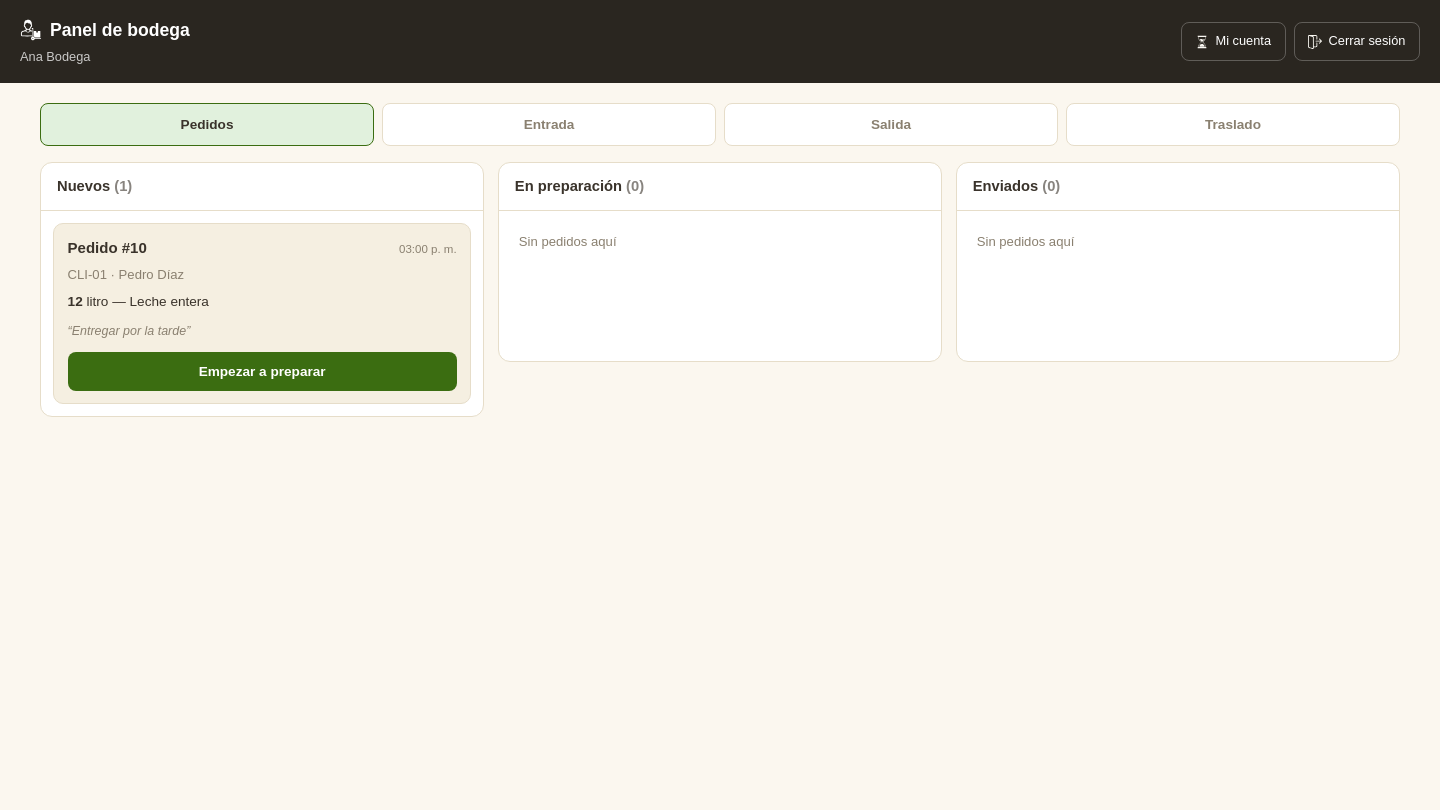
Test: BodegaPage › registers an entrada and shows recent movements
This screenshot has width=1440, height=810.
Click the button "Entrada" at (549, 124), box top-left (382, 103), bottom-right (716, 146)
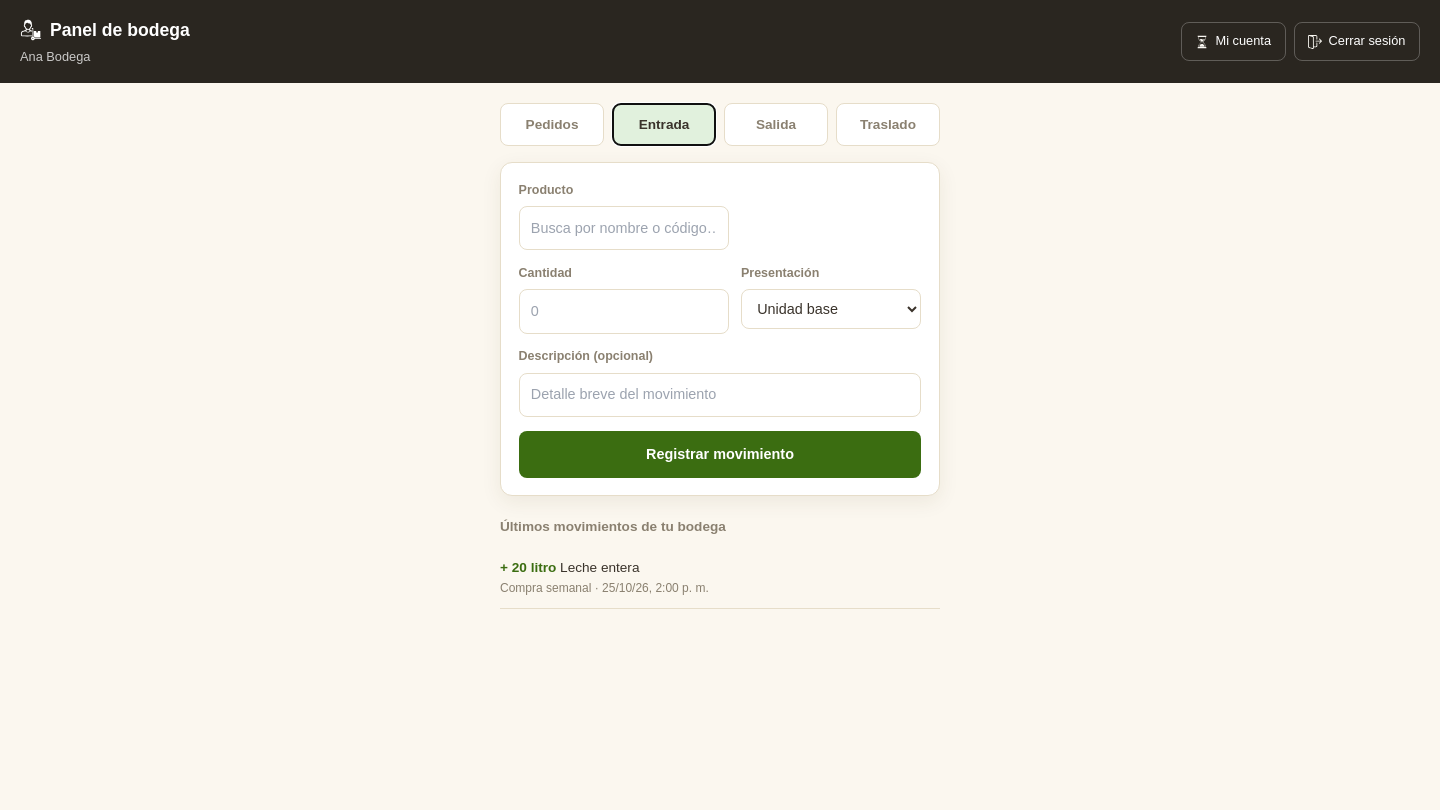
Expected: the text "Últimos movimientos de tu bodega" is shown, top-left (500, 519), bottom-right (726, 534)
Expected: the text "+ 20 litro Leche entera" is shown, top-left (500, 560), bottom-right (640, 575)
Type "Leche" into the field named "Producto" at (624, 228), box top-left (519, 206), bottom-right (729, 250)
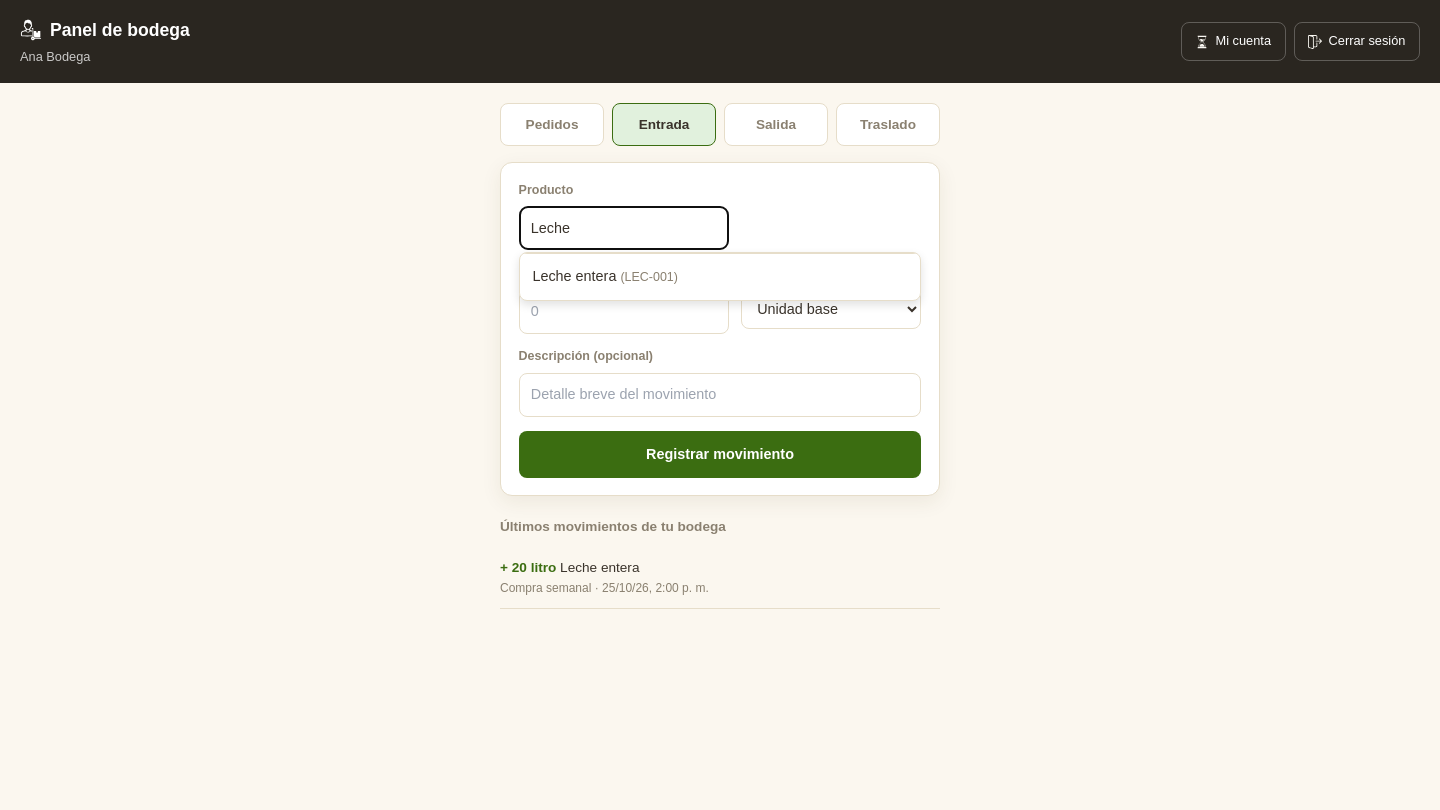
Press Enter
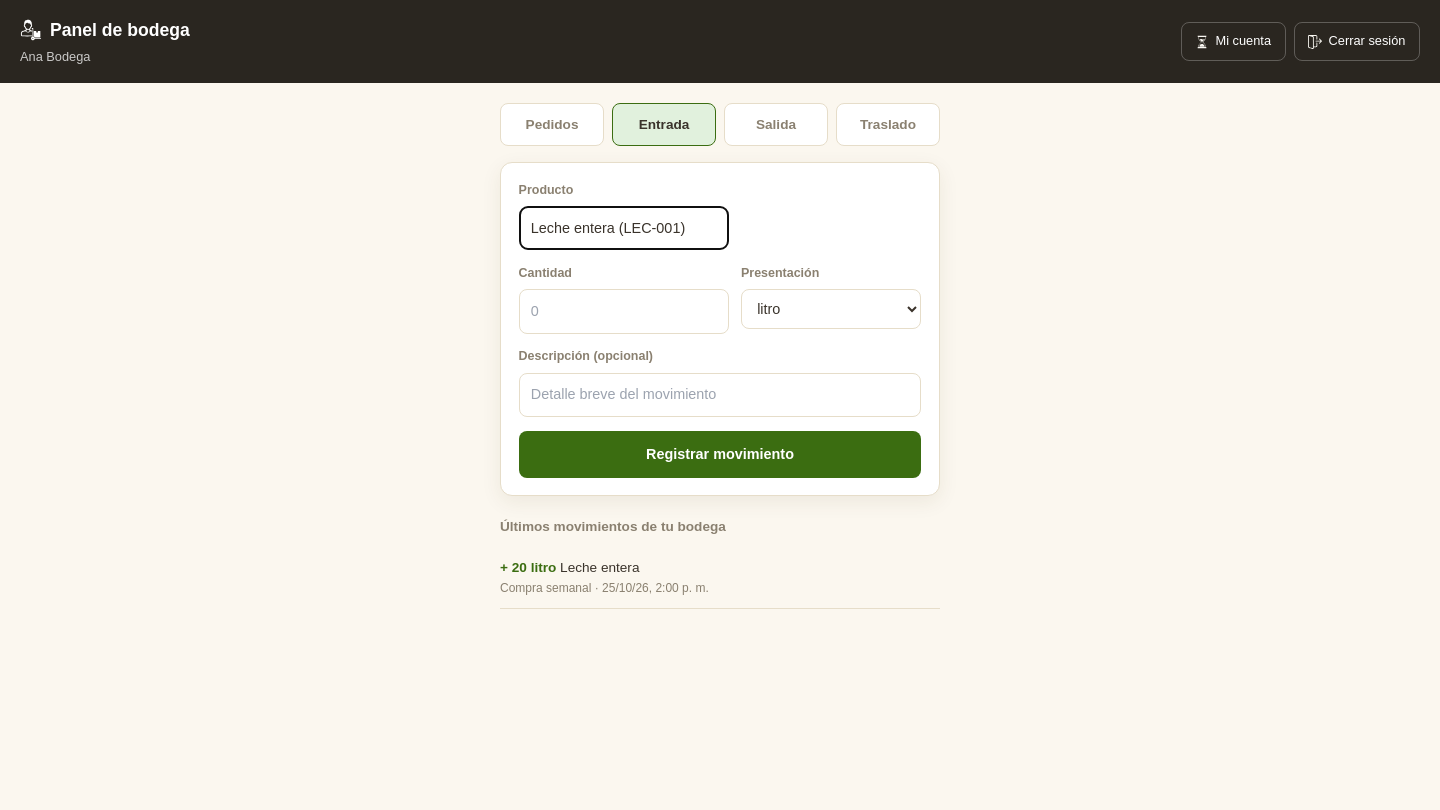
Type "3" into the number field named "Cantidad" at (624, 312), box top-left (519, 290), bottom-right (729, 334)
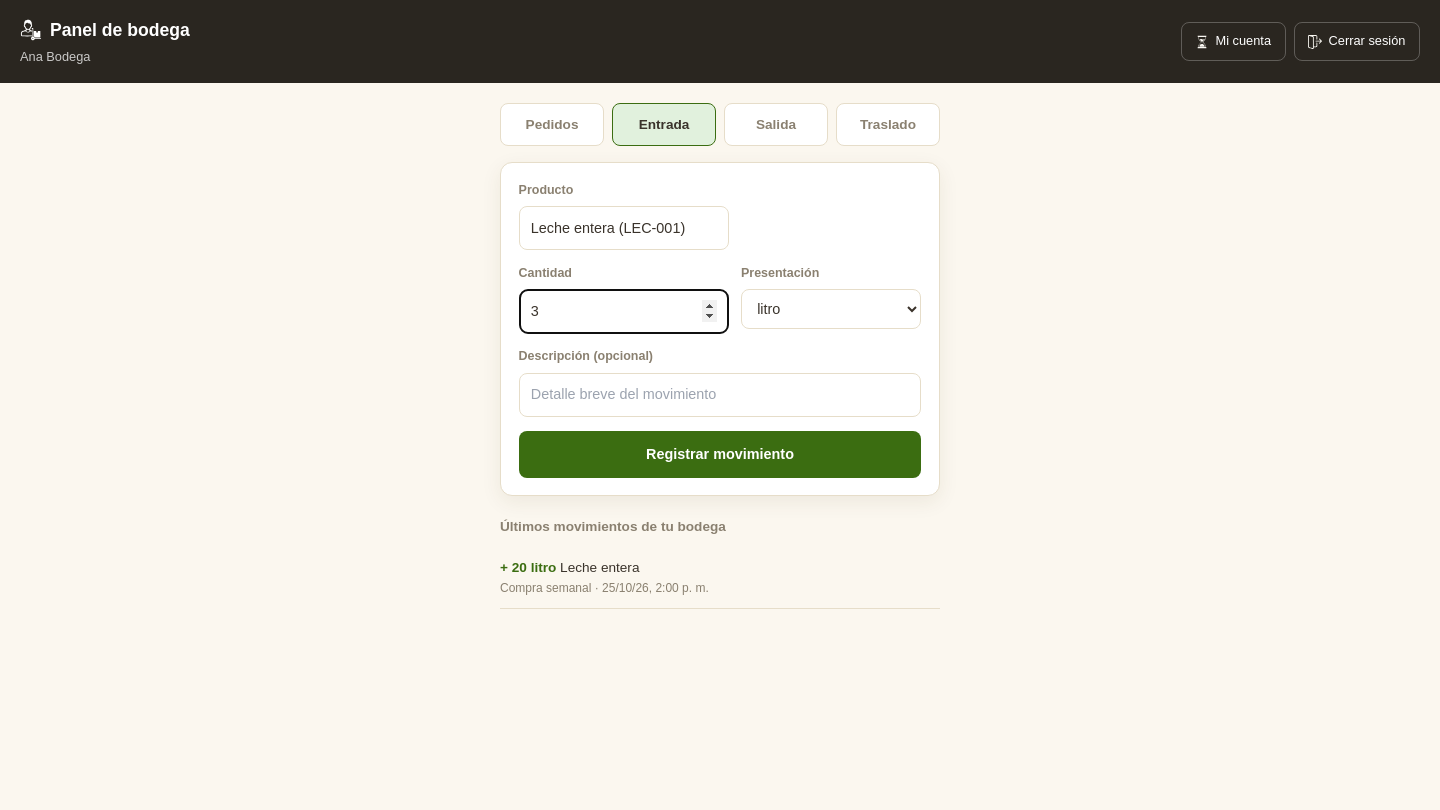
Type "Compra semanal" into the field with placeholder "Detalle breve del movimiento" at (720, 395), box top-left (519, 373), bottom-right (921, 417)
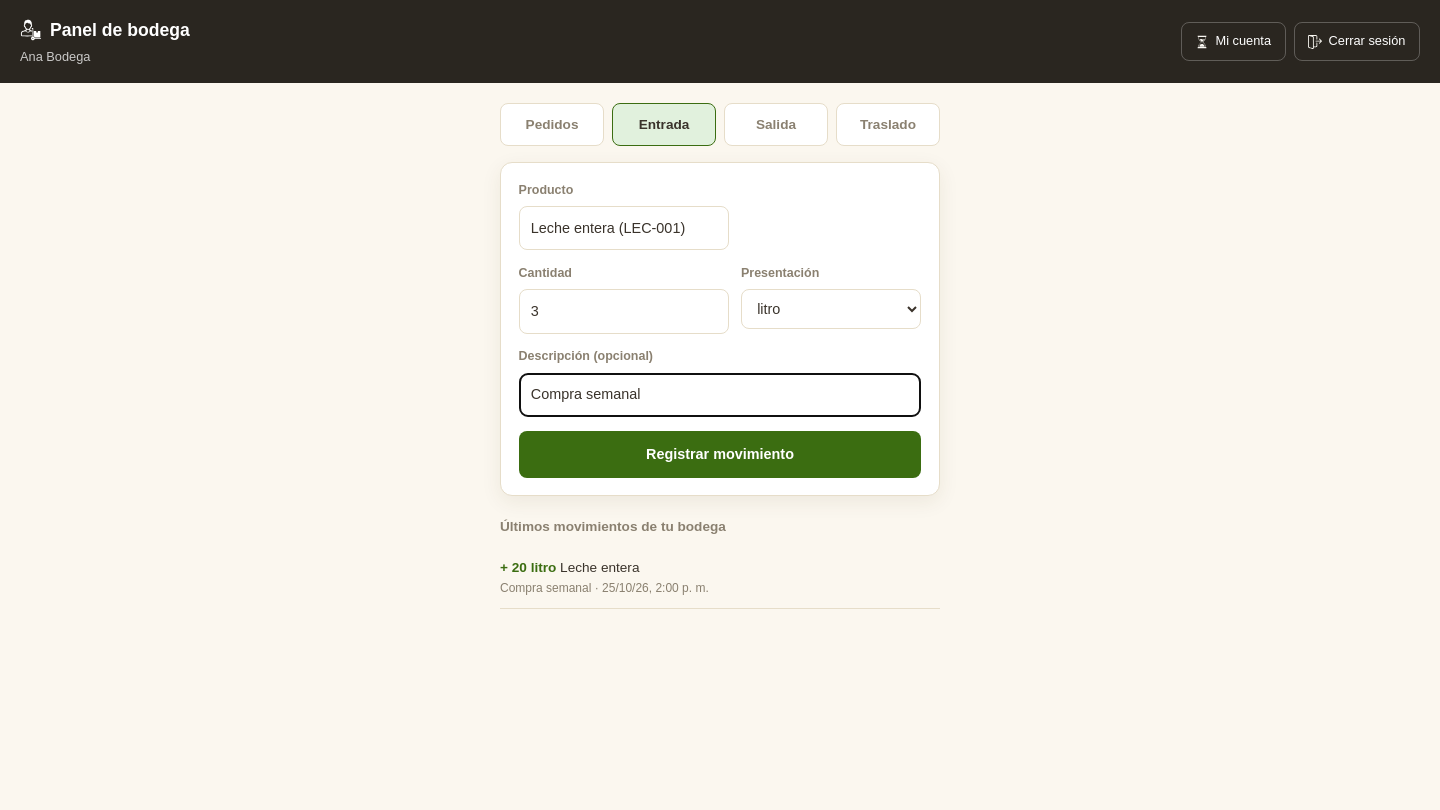
Click the button "Registrar movimiento" at (720, 454), box top-left (519, 431), bottom-right (921, 478)
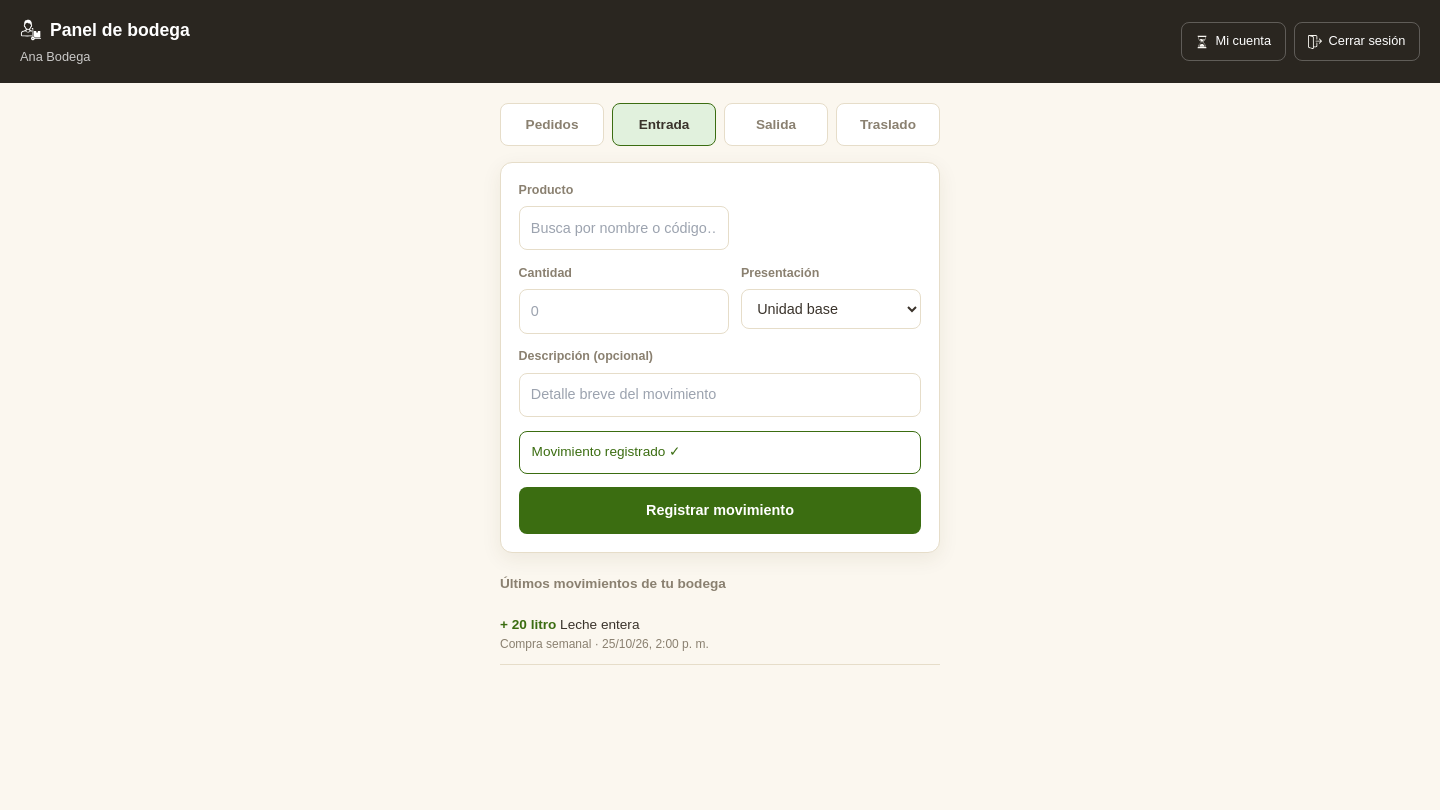
Expected: the text "Movimiento registrado ✓" is shown, top-left (519, 431), bottom-right (921, 474)
